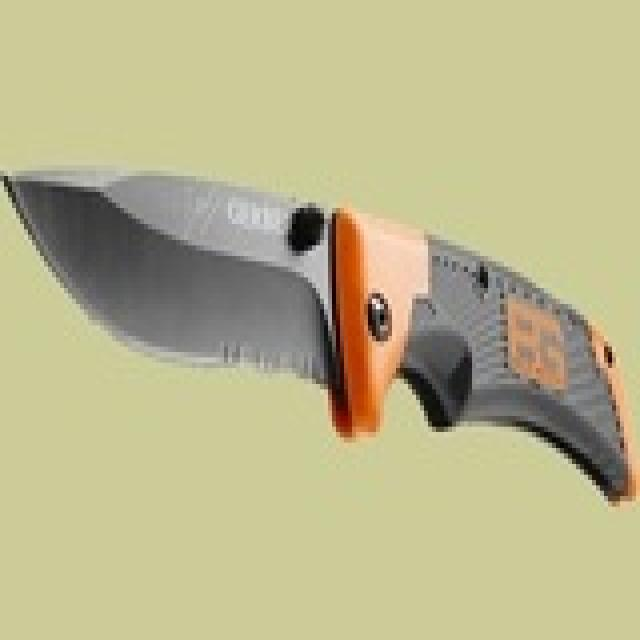Knife: (7, 152, 636, 515)
